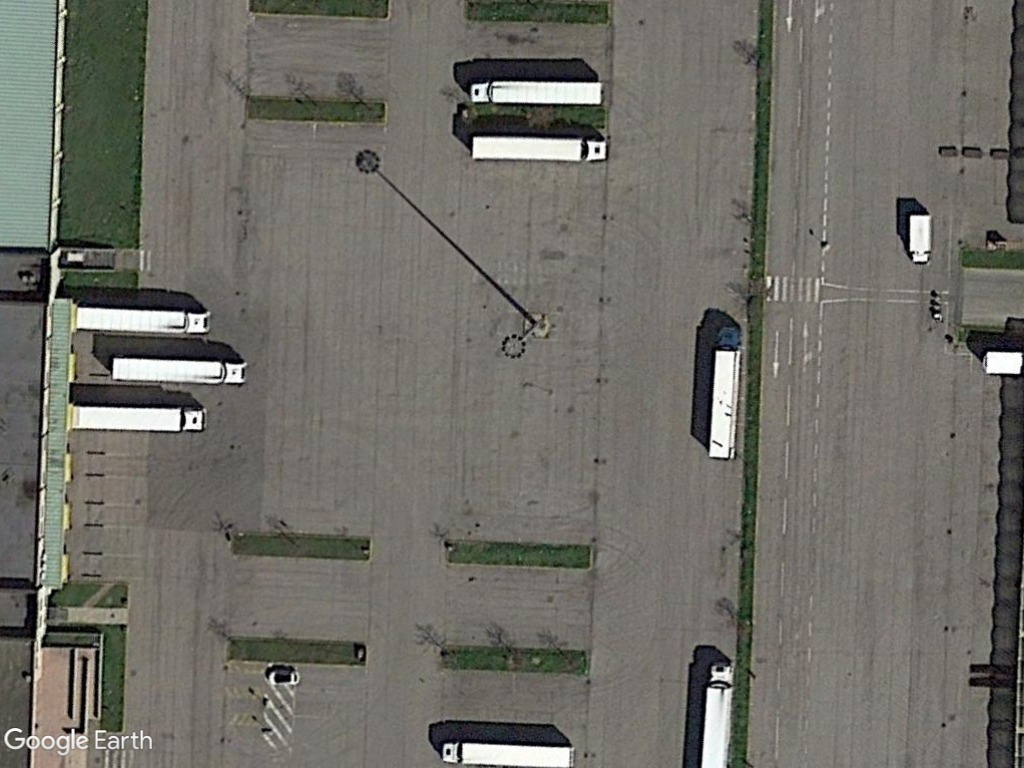longvehicle: (107, 351, 249, 389), (703, 325, 742, 463), (71, 302, 215, 338), (66, 402, 214, 436), (468, 130, 610, 165), (464, 77, 609, 111), (436, 735, 577, 768), (696, 661, 736, 768)
truck: (902, 208, 937, 268)
